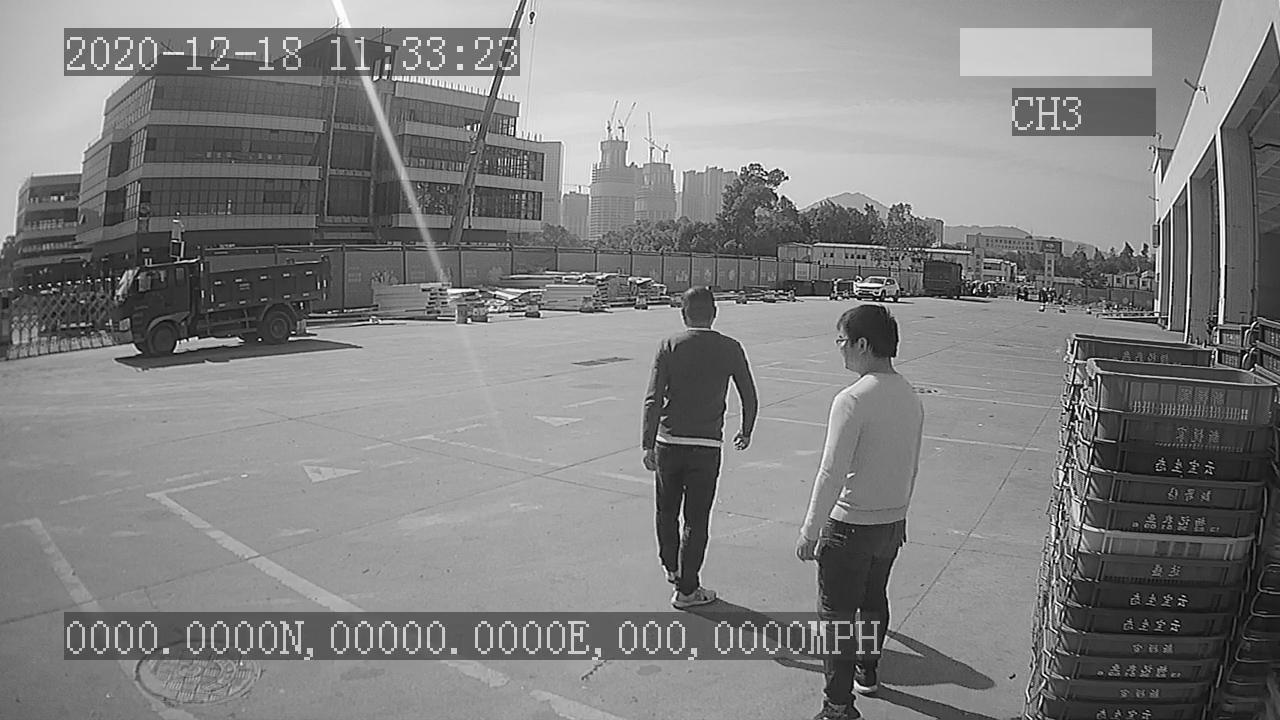person: (636, 279, 759, 610)
